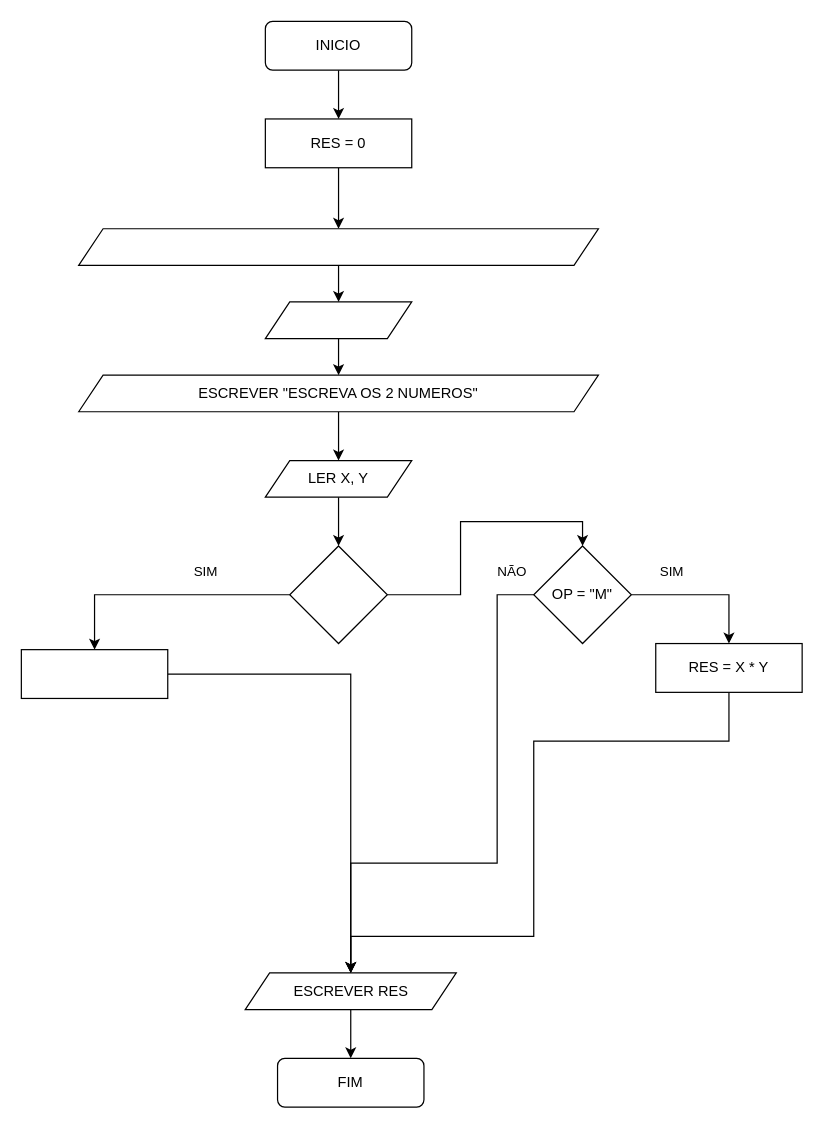
Image size: 824x1129. Some labels were removed from this diagram. Here are the shapes that lost their labels. From the top down, the centre of each, then its label:
pixel 337 246: ESCREVER "TIPO DE OPERAÇÃO: S - SOMAR OU M - MULTIPLICAR"
pixel 338 320: LER OP
pixel 338 594: OP = "S"
pixel 94 673: RES = X + Y
